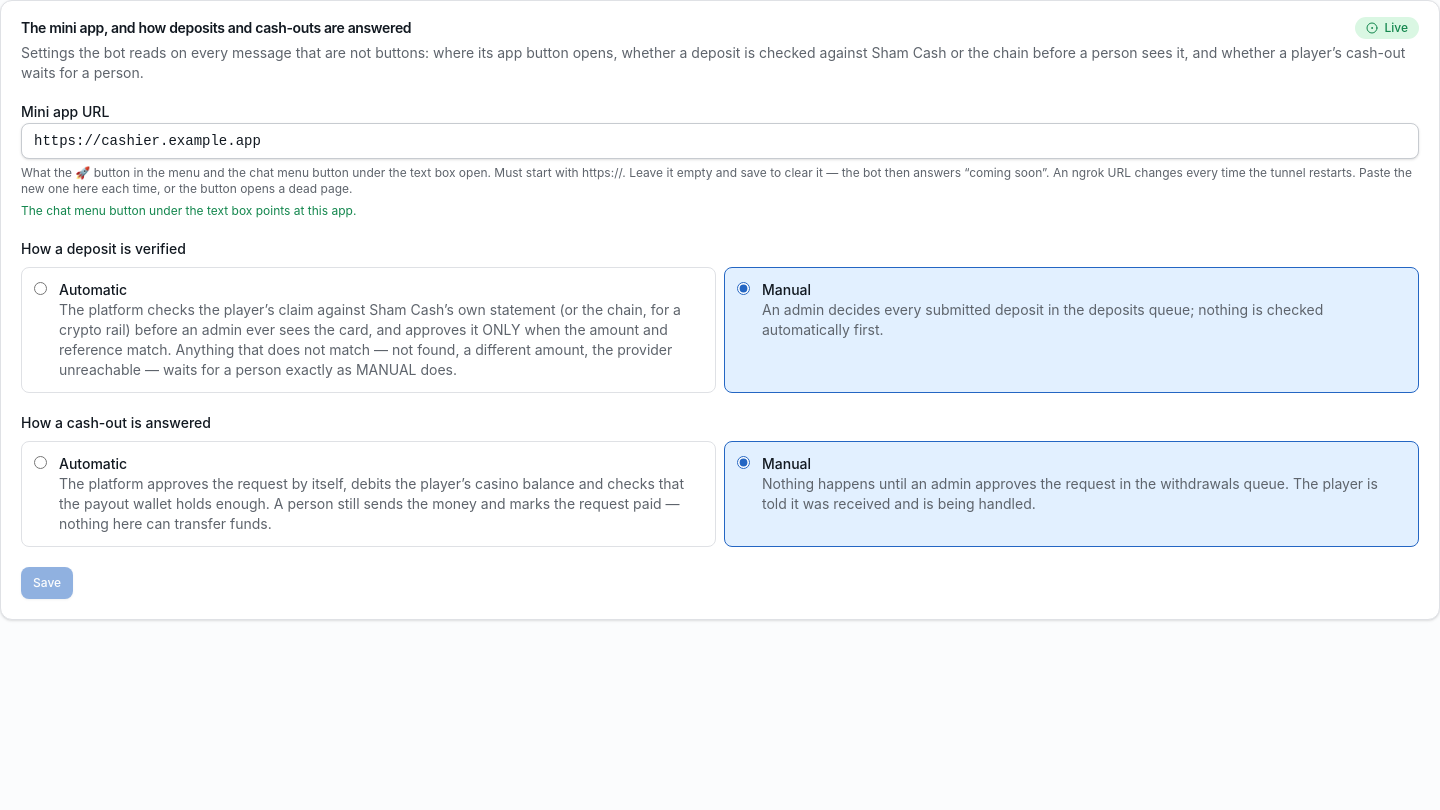
Test: editing › clears the URL as an explicit null, never as an empty string
Step 1. Clear the field labelled "Mini app URL" → point(720, 141), box [21,123,1419,159]
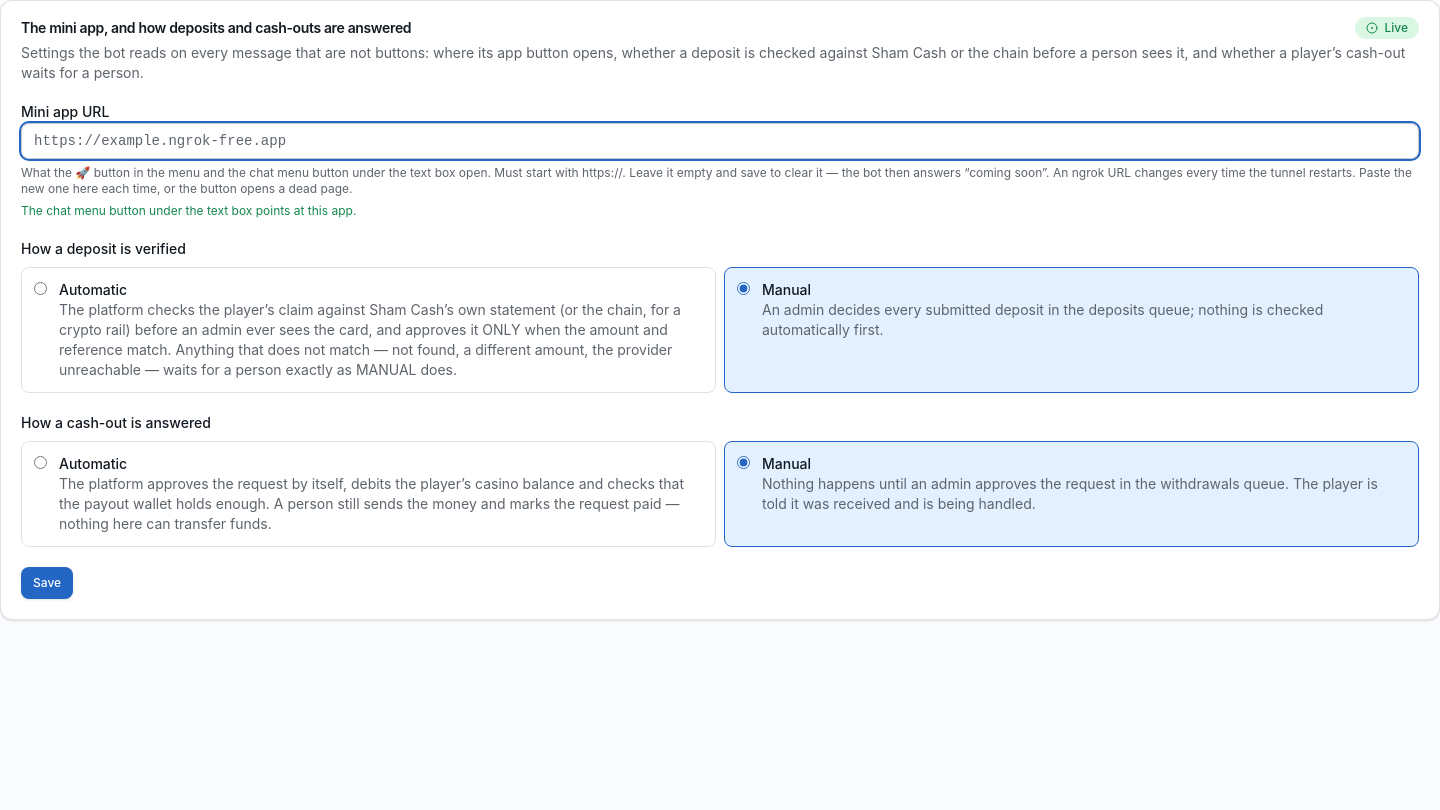
Step 2. Click the button "Save" → point(47, 583), box [21,567,73,599]
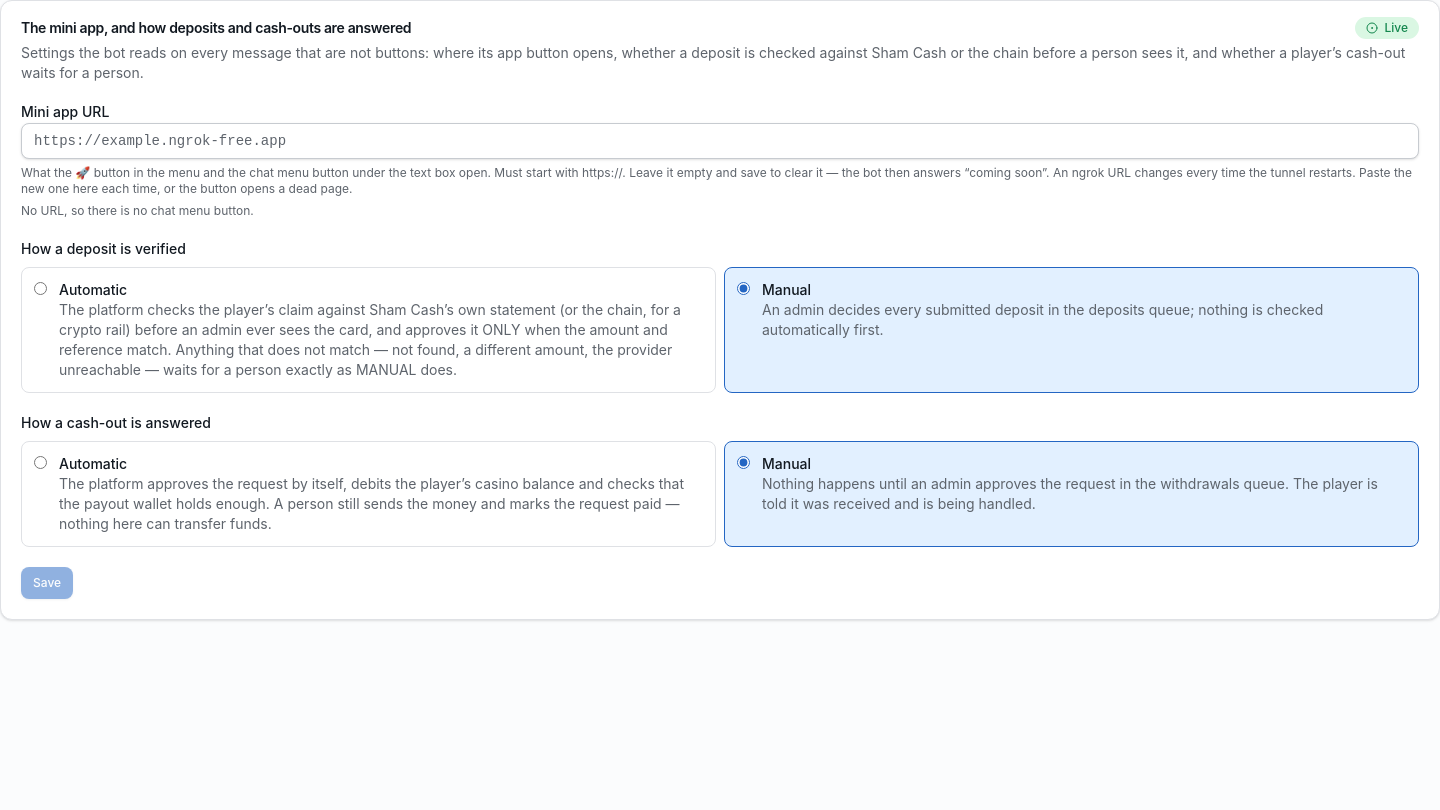
Result: the text "No URL, so there is no chat menu button." is shown at [21,203,254,218]
